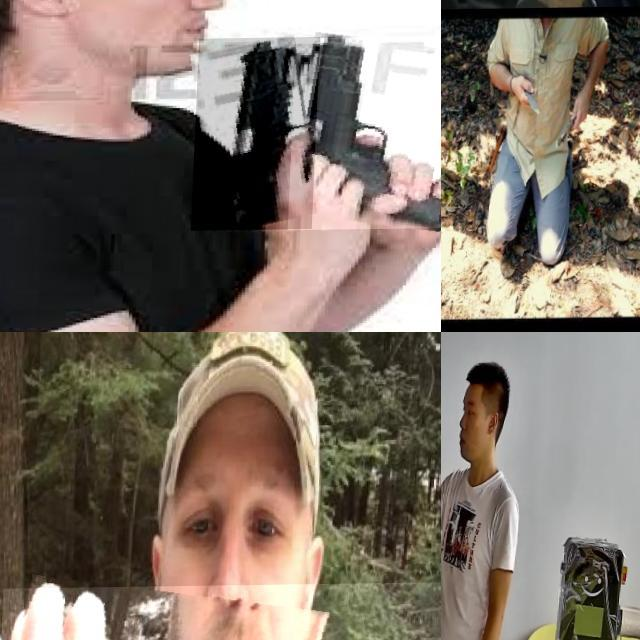-: (441, 0, 564, 131), (506, 0, 568, 60), (515, 75, 547, 118), (441, 231, 455, 307)
gun-knife-thesis - v11 Yolov5 augmented: (292, 37, 441, 231), (195, 38, 323, 232), (441, 363, 468, 465)
